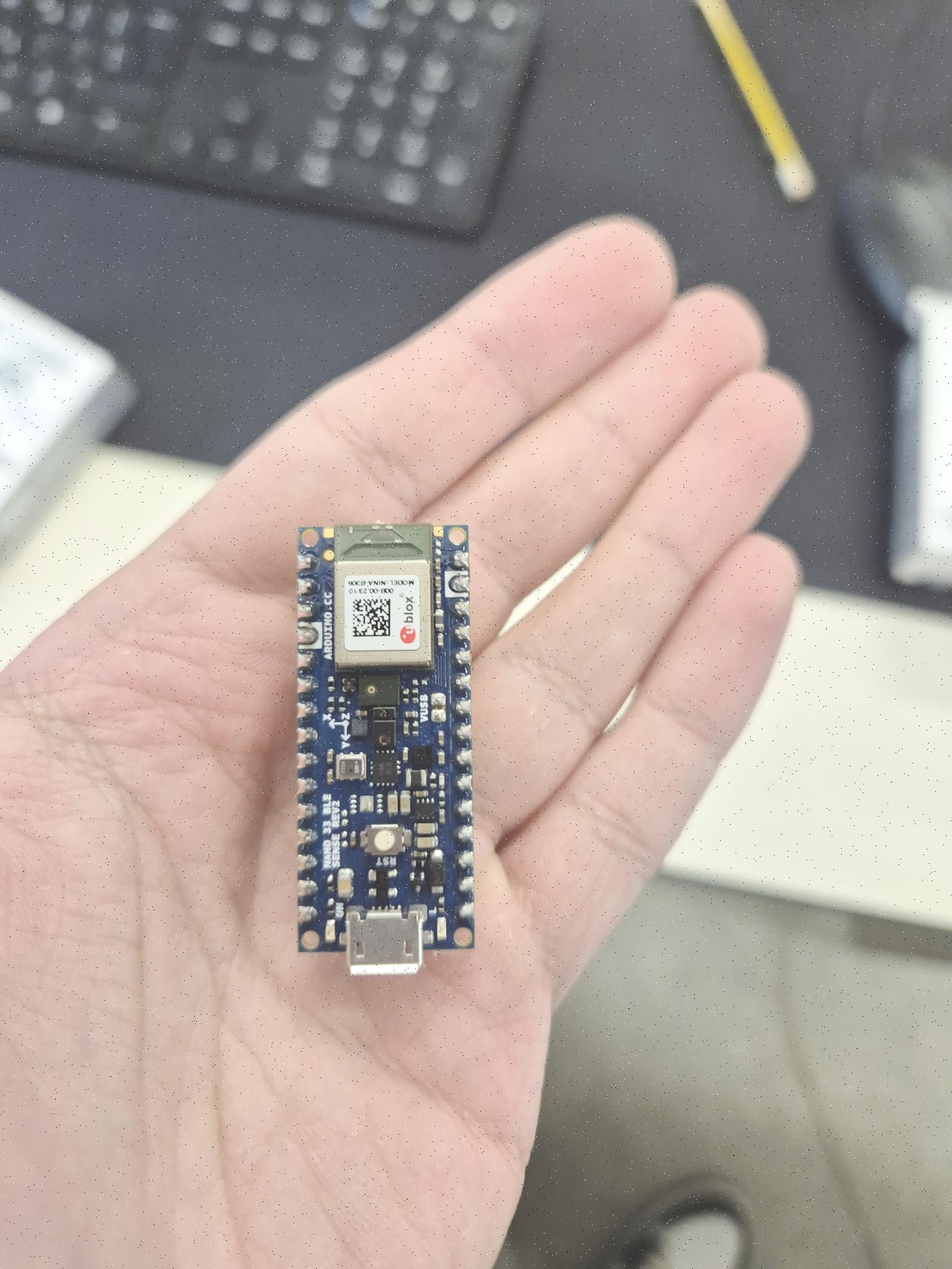arduino-nano-ble-sense: (297, 522, 475, 977)
